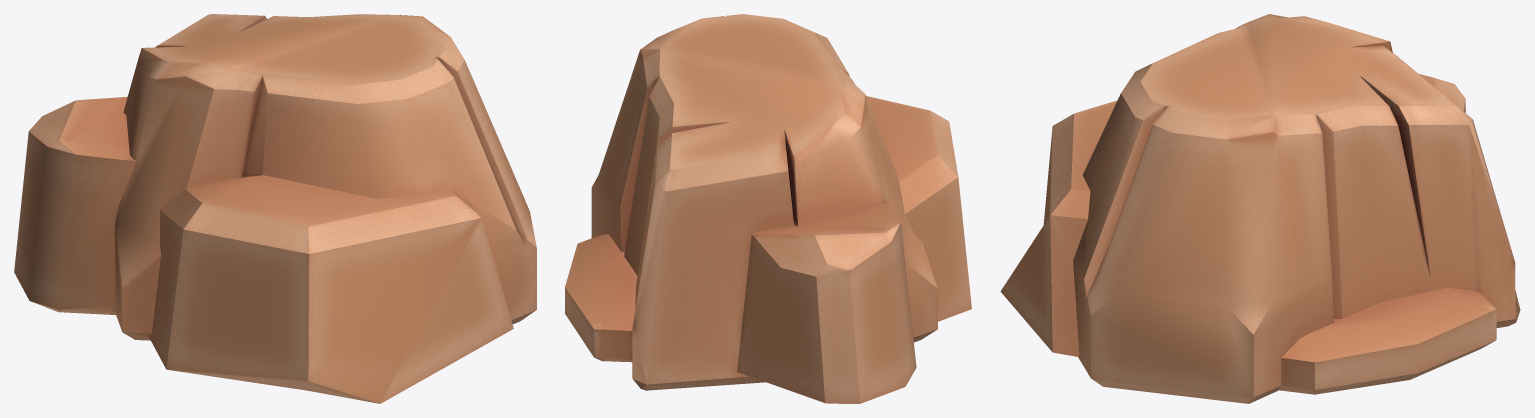
The model's file is desert_scatter_12.glb.
3 views of the same model, side by side, from view 1: azimuth 30°, elevation 25°; view 2: azimuth 150°, elevation 25°; view 3: azimuth 270°, elevation 25° (orthographic). The views are drawn at different scales.
Visible parts, largest first — view 1: Rock_12_Rock_12_0; view 2: Rock_12_Rock_12_0; view 3: Rock_12_Rock_12_0.
Part boxes in pixels (x1,y1,x2,y2): Rock_12_Rock_12_0: (14,14,536,403); Rock_12_Rock_12_0: (565,14,971,403); Rock_12_Rock_12_0: (1000,14,1520,403).
Size of the model in its own units: 1.79 by 1.1 by 1.98.
Materials: 1 (1 with a texture image).
